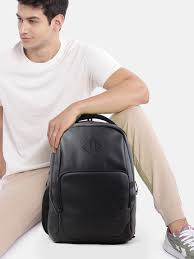backpack: (41, 113, 138, 244)
